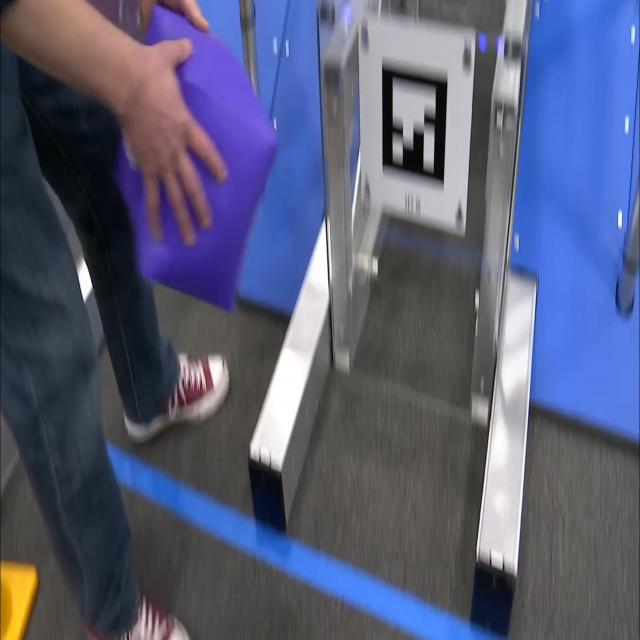frc_cone: (0, 559, 38, 640)
frc_cube: (110, 4, 276, 316)
